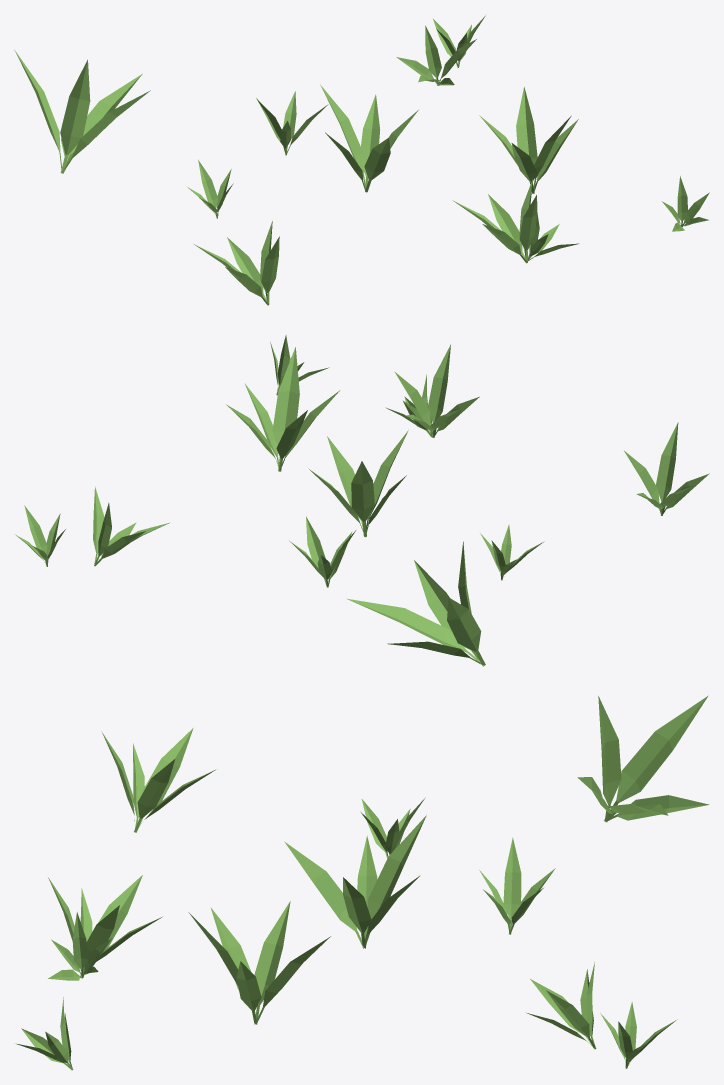
The model's file is Grass01.fbx.
3 renders of one model, top to bottom at view 1: azimuth 30°, elevation 25°; view 2: azimuth 150°, elevation 25°; view 3: azimuth 270°, elevation 25°, orthographic. The views are drawn at different scales.
Visible parts, largest first — view 1: Circle.536; view 2: Circle.536; view 3: Circle.536.
Boxes of the visible parts, <box> form: Circle.536: <box>14,15,709,305</box>; Circle.536: <box>15,335,709,666</box>; Circle.536: <box>16,695,709,1070</box>.
Bounding box in the file's own units: 88.85 × 20.52 × 91.88.
